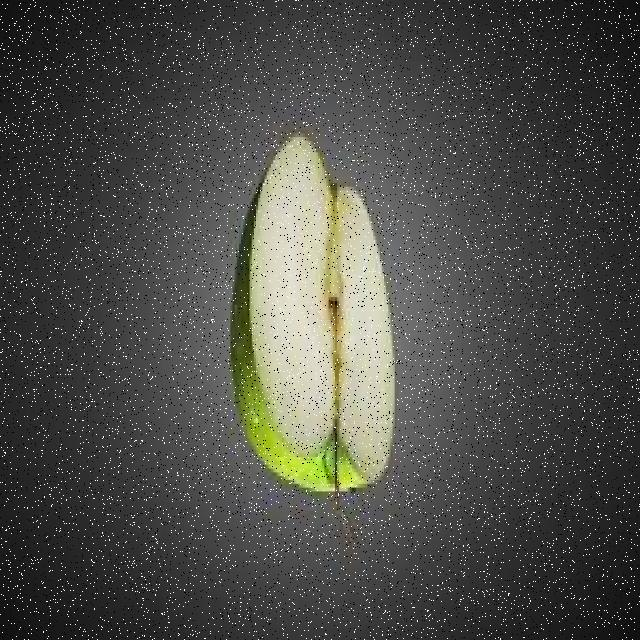Apple: (228, 136, 396, 499)
